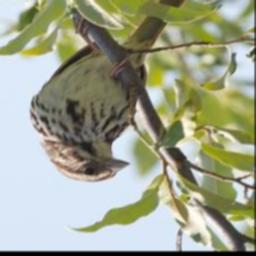Sparrow: (31, 0, 194, 183)
